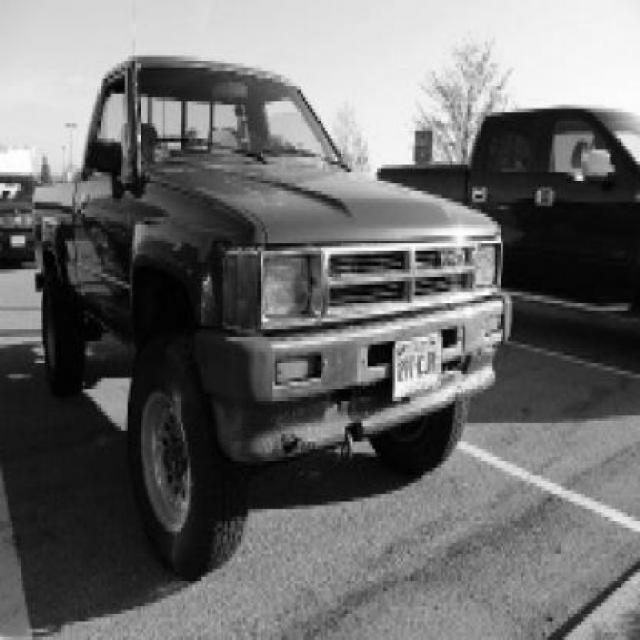Pickup: (32, 55, 513, 583)
